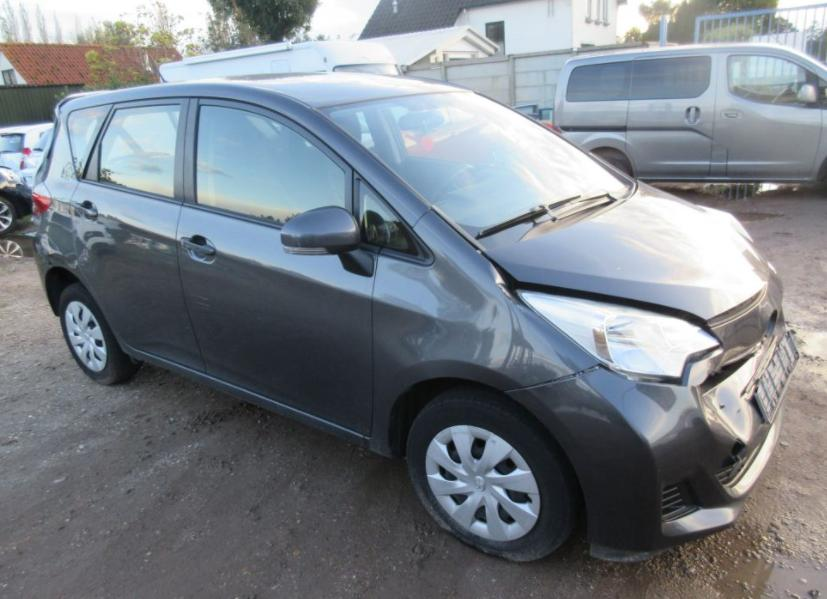Back-door: (72, 98, 205, 373)
Back-wheel: (59, 283, 141, 385)
Back-window: (83, 105, 179, 198), (69, 108, 104, 170)
Back-windshield: (38, 114, 59, 181)
Fender: (371, 210, 597, 460)
Front-bumper: (508, 262, 797, 563)
Front-door: (177, 98, 379, 437)
Front-wheel: (406, 389, 581, 562)
Front-window: (196, 106, 430, 264)
Headlight: (518, 291, 720, 383)
Hood: (484, 181, 767, 322)
Mirror: (280, 206, 375, 277)
Quarter-panel: (34, 175, 78, 296)
Rocker-panel: (119, 340, 371, 450)
Roof: (171, 71, 474, 108)
Tail-light: (32, 172, 51, 217)
Windshield: (319, 92, 633, 252)
